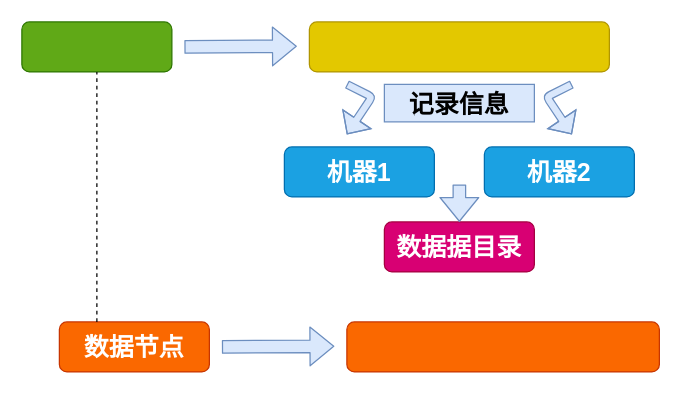
Some shapes in this 681 by 394 pixel diagram are drawn without their labels. The centre of each missing label's shape, as x and y in pixels:
"名称节点" belongs at (96,46).
"存储实际数据" belongs at (502,346).
"整个HDFS集群的管家" belongs at (458,46).
